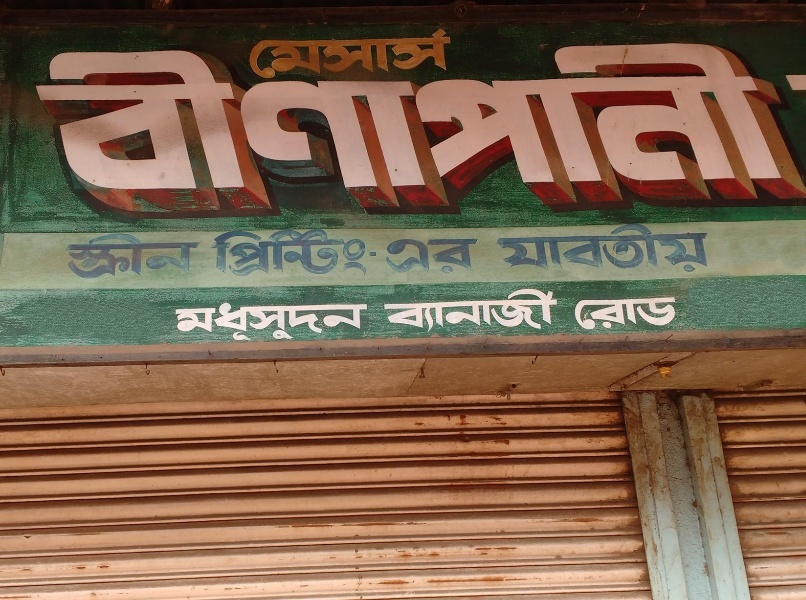text: (33, 29, 48, 223), (49, 29, 64, 223), (65, 29, 80, 223), (81, 29, 96, 223), (97, 29, 112, 223), (113, 29, 128, 223), (129, 29, 144, 223), (145, 29, 160, 223), (161, 29, 176, 223), (177, 29, 192, 223), (193, 29, 208, 223), (209, 29, 224, 223), (225, 29, 240, 223), (241, 29, 256, 223), (257, 29, 272, 223), (273, 29, 288, 223), (289, 29, 304, 223), (305, 29, 320, 223), (321, 29, 336, 223), (337, 29, 352, 223), (353, 29, 368, 223), (369, 29, 384, 223), (385, 29, 400, 223), (401, 29, 416, 223), (417, 29, 432, 223), (433, 29, 448, 223), (449, 29, 464, 223), (465, 29, 480, 223), (481, 29, 496, 223), (497, 29, 512, 223), (513, 29, 528, 223), (529, 29, 544, 223), (545, 29, 560, 223), (561, 29, 576, 223), (577, 29, 592, 223), (593, 29, 608, 223), (609, 29, 624, 223), (625, 29, 640, 223), (641, 29, 656, 223), (657, 29, 672, 223), (673, 29, 688, 223), (689, 29, 704, 223), (705, 29, 720, 223), (721, 29, 736, 223), (737, 29, 752, 223), (753, 29, 768, 223), (769, 29, 784, 223), (785, 29, 800, 223), (65, 227, 80, 284), (81, 227, 96, 284), (97, 227, 112, 284), (113, 227, 128, 284), (129, 227, 144, 284), (145, 227, 160, 284), (161, 227, 176, 284), (177, 227, 192, 284), (497, 221, 512, 278), (513, 221, 528, 278), (529, 221, 544, 278), (545, 221, 560, 278), (561, 221, 576, 278), (577, 221, 592, 278), (593, 221, 608, 278), (609, 221, 624, 278), (625, 221, 640, 278), (641, 221, 656, 278), (657, 221, 672, 278), (673, 221, 688, 278), (689, 221, 704, 278), (257, 26, 272, 81), (273, 26, 288, 81), (289, 26, 304, 81), (305, 26, 320, 81), (321, 26, 336, 81), (337, 26, 352, 81), (353, 26, 368, 81), (369, 26, 384, 81), (385, 26, 400, 81), (401, 26, 416, 81), (417, 26, 432, 81), (433, 26, 448, 81), (705, 221, 719, 278), (801, 29, 805, 223), (225, 227, 240, 278), (241, 227, 256, 278), (257, 227, 272, 278), (273, 227, 288, 278), (289, 227, 304, 278), (305, 227, 320, 278), (321, 227, 336, 278), (337, 227, 352, 278), (353, 227, 368, 278), (577, 286, 592, 337), (593, 286, 608, 337), (609, 286, 624, 337), (625, 286, 640, 337), (641, 286, 656, 337), (657, 286, 672, 337), (177, 296, 192, 345), (193, 296, 208, 345), (209, 296, 224, 345), (225, 296, 240, 345), (241, 296, 256, 345), (257, 296, 272, 345), (273, 296, 288, 345), (289, 296, 304, 345), (305, 296, 320, 345), (321, 296, 336, 345), (337, 296, 352, 345), (353, 296, 368, 345), (385, 288, 400, 337), (401, 288, 416, 337), (417, 288, 432, 337), (433, 288, 448, 337), (449, 288, 464, 337), (465, 288, 480, 337), (481, 288, 496, 337), (497, 288, 512, 337), (513, 288, 528, 337), (529, 288, 544, 337), (545, 288, 560, 337), (210, 227, 224, 278), (385, 233, 400, 280), (401, 233, 416, 280), (417, 233, 432, 280), (433, 233, 448, 280), (449, 233, 464, 280), (465, 233, 480, 280), (193, 227, 204, 284), (369, 227, 381, 278), (449, 26, 459, 81), (248, 26, 256, 81), (673, 286, 681, 337), (171, 296, 176, 345), (369, 296, 374, 345), (60, 227, 64, 284), (561, 288, 564, 337), (494, 221, 496, 278), (574, 286, 576, 337), (382, 288, 384, 337), (382, 233, 384, 280)
